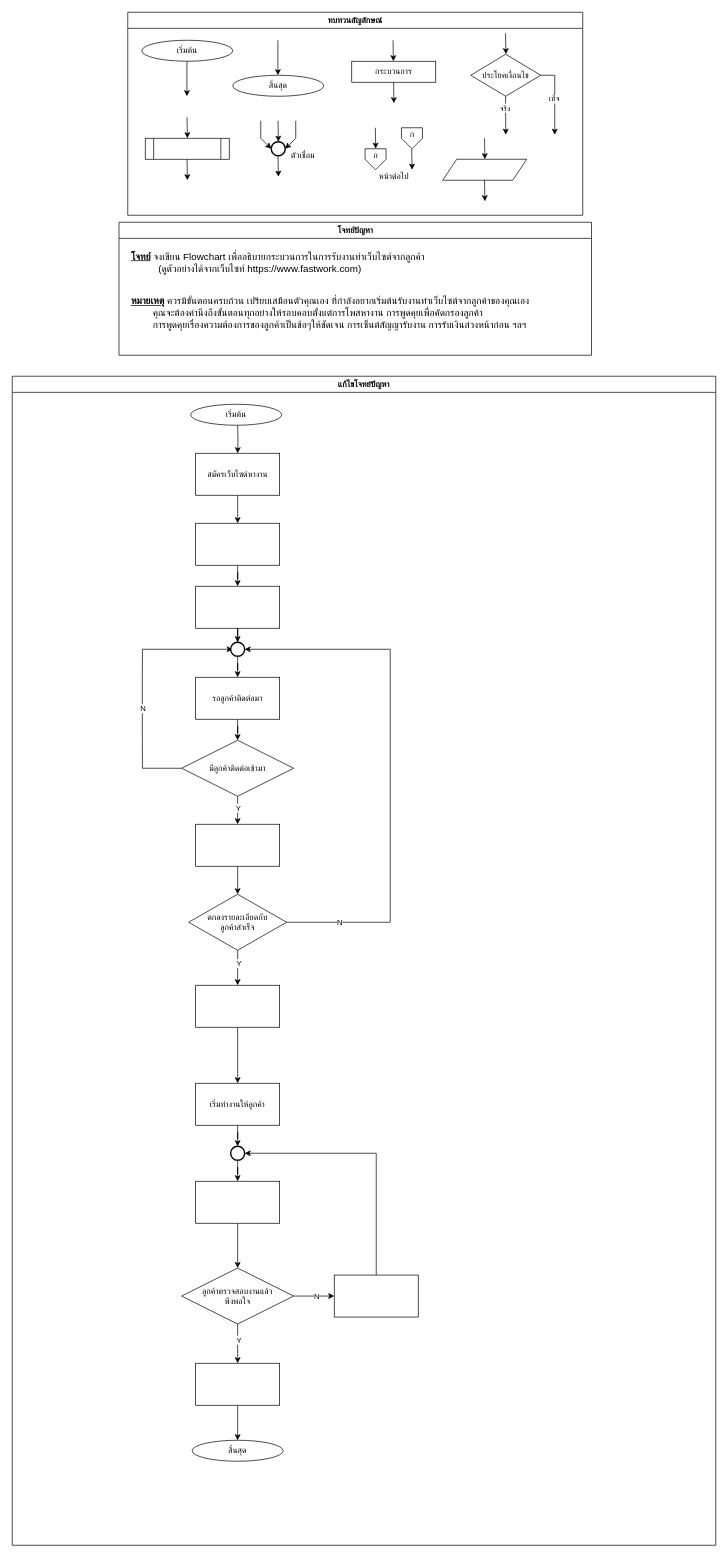
The diagram is 728 pixels wide and 1558 high, and some of its shapes have lost their labels. The shapes that lost their labels are listed below. From the top down, each one's centre as x and y in pixels, then its label:
At pixel 187 148: "ฟังก์ชัน/โมดูล".
At pixel 484 169: "แสดงผล/รับค่า".
At pixel 237 544: "สร้างโปรไฟล์ และ ขอบเขตของงานที่รับ".
At pixel 237 607: "โพสต์หางาน".
At pixel 237 845: "พูดคุยรายละเอียด".
At pixel 237 1006: "รับเงินมัดจำมา 20 %".
At pixel 237 1202: "ส่งมอบงานให้ลูกค้า".
At pixel 376 1295: "แก้ไขในส่วนที่ลูกค้าต้องการ".
At pixel 237 1384: "ปิดการทำงาน และรับเงินอีก 80 %".
